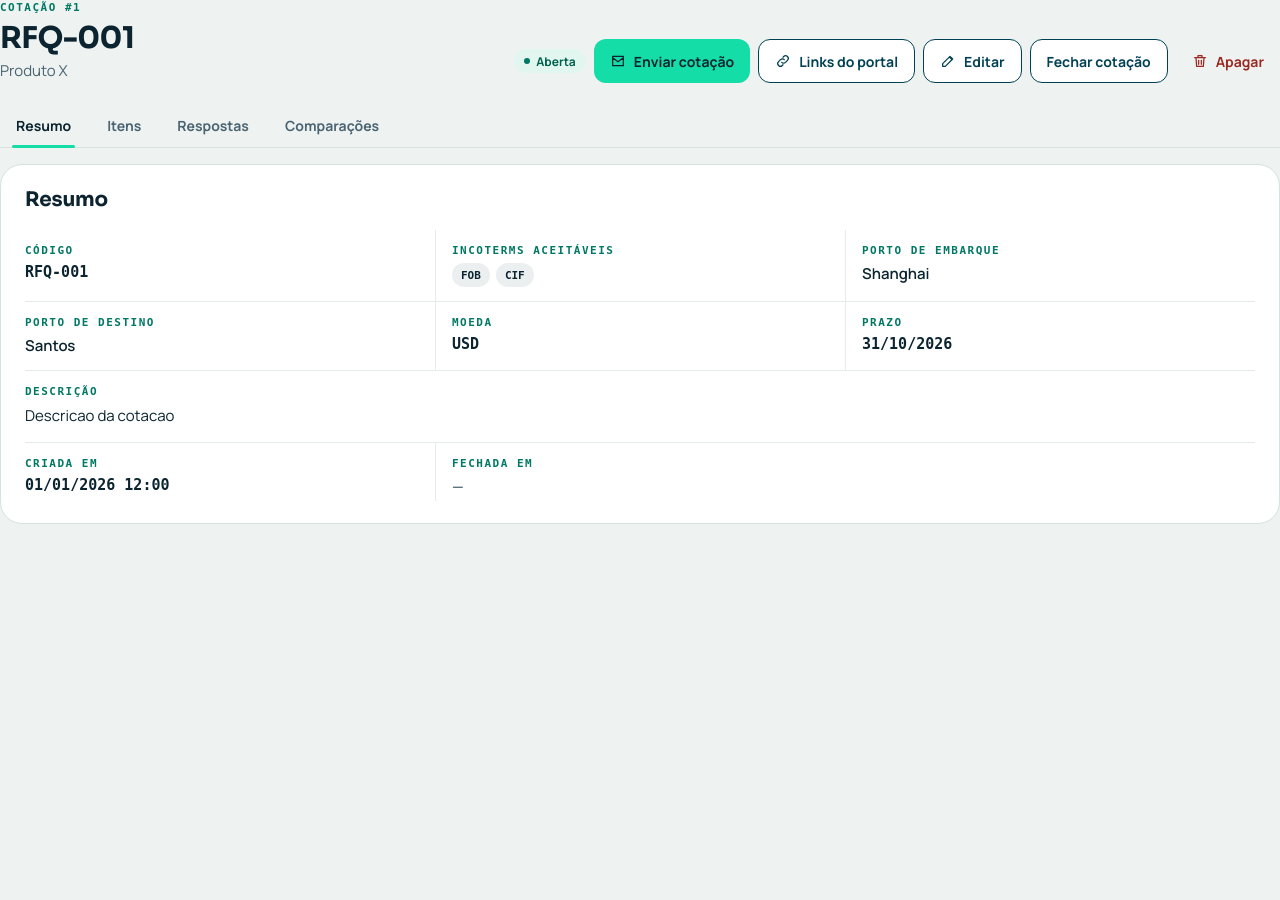
Test: CotacaoDetalhe (F6): Links do portal › selos por status (Respondido success, Expirado warning, Pendente muted), contato em 2 linhas e acoes em .cotacao-links__acoes
expect the heading "RFQ-001" is shown: met, box [0,20,134,55]
Click the button "Links do portal". click: (837, 61)
box: [758,39,915,83]
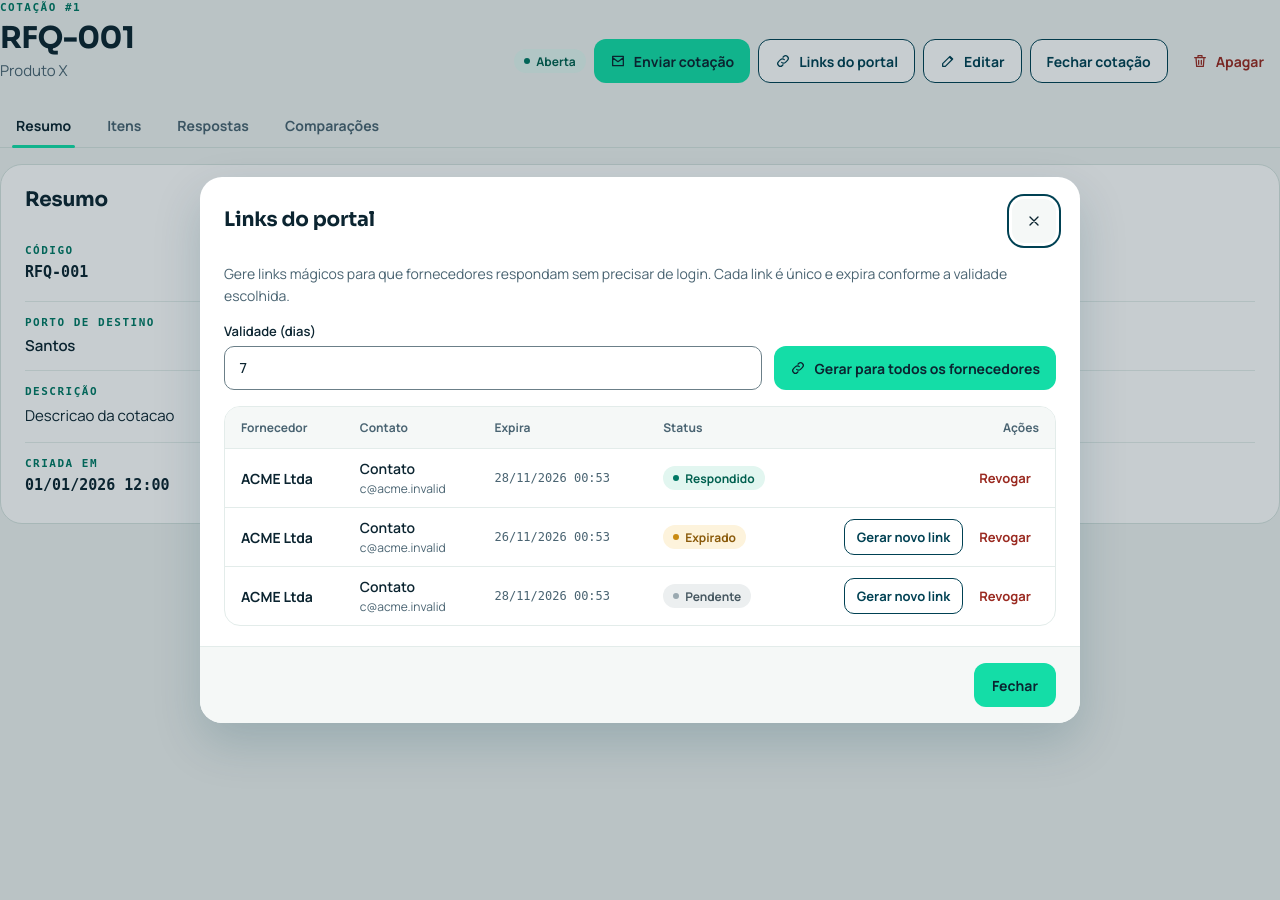
expect the element with class "cotacao-links__tabela" is shown: met, box [224,406,1056,626]
expect the text with class "cotacao-links__contato-nome" in the row of "Respondido" reads "Contato": met, box [360,459,415,478]
expect the text with class "cotacao-links__contato-email" in the row of "Respondido" reads "c@acme.invalid": met, box [360,480,446,497]
